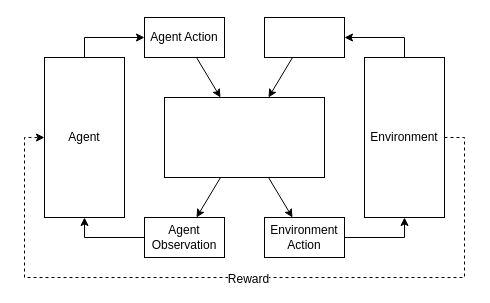
The diagram is 490 pixels wide and 303 high, and some of its shapes have lost their labels. Each missing label, with the box of its shape:
Echo State Network: (164, 96, 324, 178)
Environment Observation: (264, 16, 344, 58)
